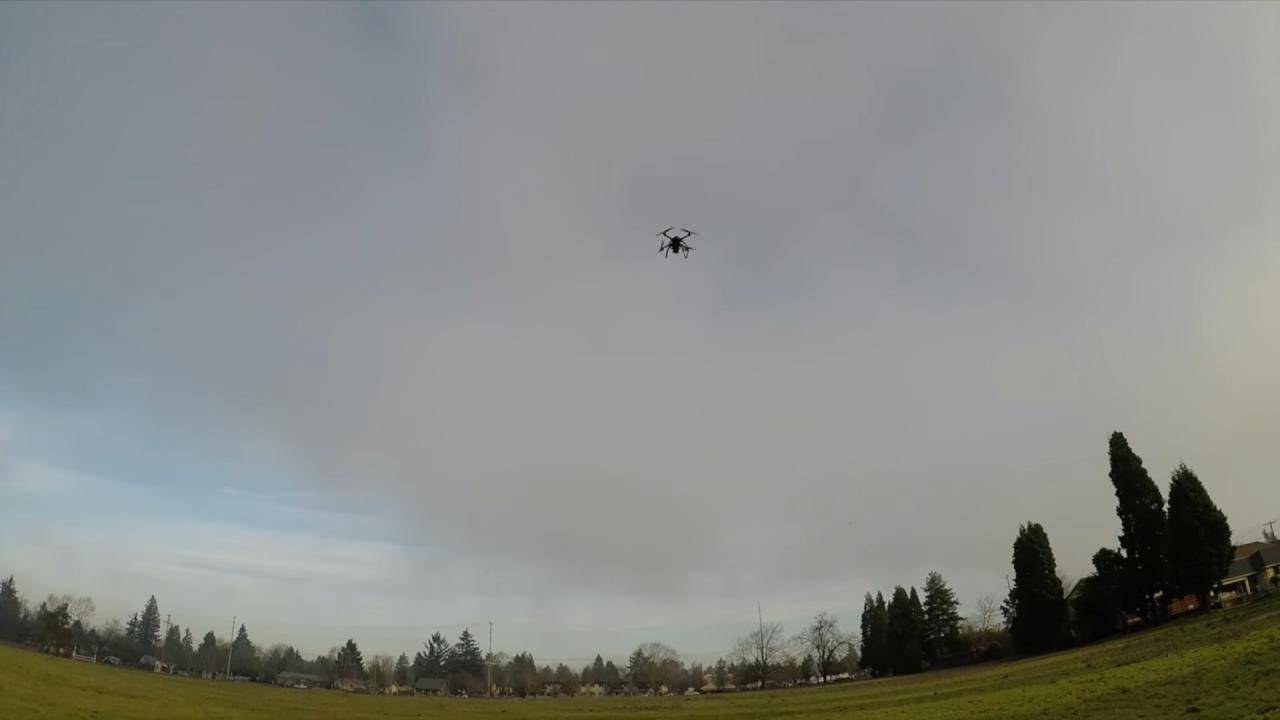Drone: (647, 219, 708, 272)
